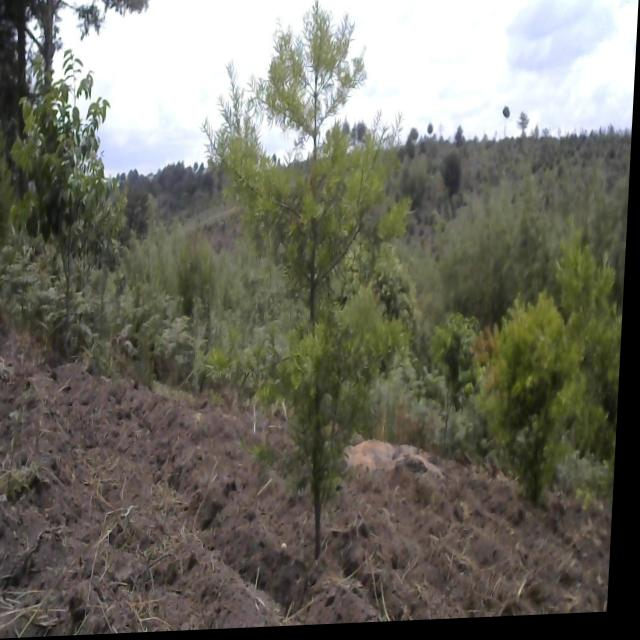Podocarpus falcatus: (186, 0, 425, 585)
